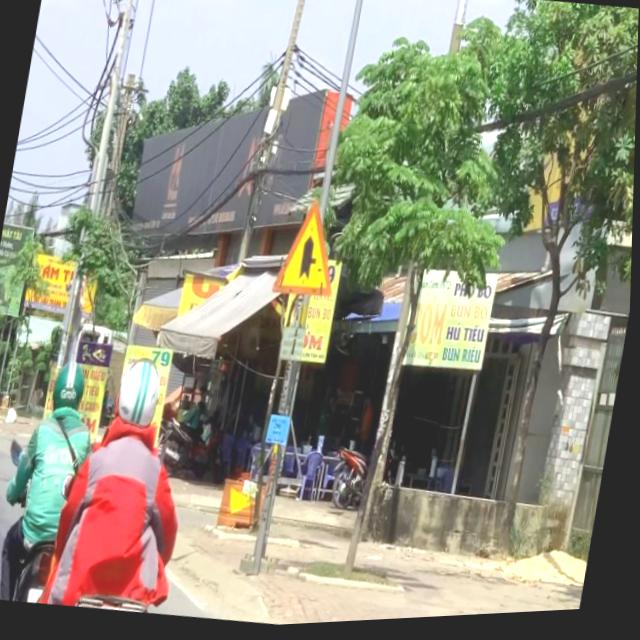Giao nhau voi duong khong uu tien ben phai: (272, 197, 351, 305)
